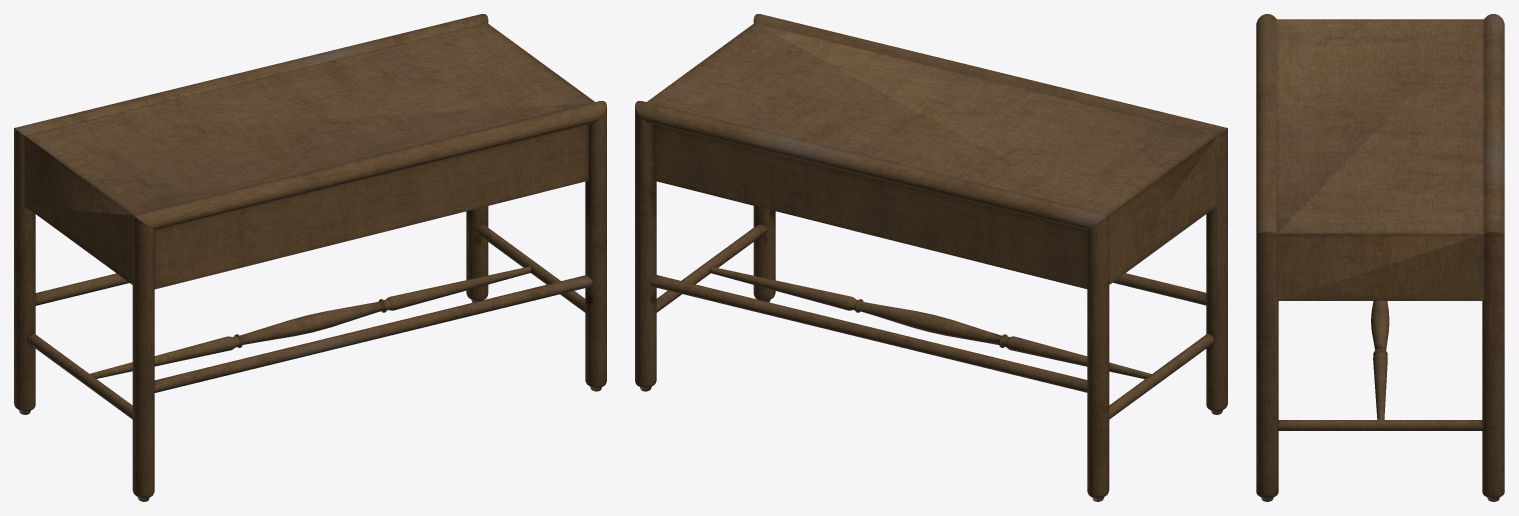
Rendered from small_wooden_table_01.fbx.
The picture shows the model from 3 angles, left to right: view 1: azimuth 30°, elevation 25°; view 2: azimuth 150°, elevation 25°; view 3: azimuth 270°, elevation 25°; orthographic projection. The views are drawn at different scales.
Visible parts, largest first — view 1: small_wooden_table_01; view 2: small_wooden_table_01; view 3: small_wooden_table_01.
Boxes of the visible parts, x1,y1,x2,y2 form: small_wooden_table_01: (14, 14, 606, 501); small_wooden_table_01: (635, 14, 1227, 501); small_wooden_table_01: (1256, 14, 1504, 501).
Bounding box in the file's own units: 91.62 × 53.31 × 44.
Materials: 1 (1 with a texture image).
